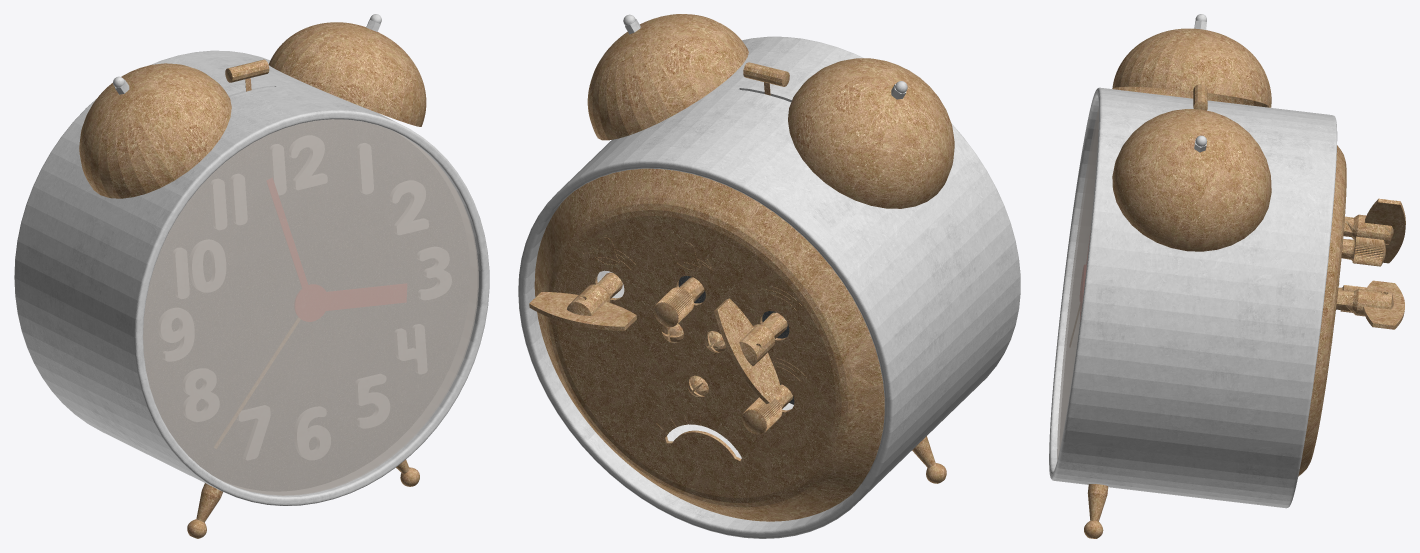
The model's file is Clock Twin Bell N260119.obj.
3 renders of one model, left to right at view 1: azimuth 30°, elevation 25°; view 2: azimuth 150°, elevation 25°; view 3: azimuth 270°, elevation 25°, orthographic. The views are drawn at different scales.
Visible parts, largest first — view 1: Cylinder243, Cylinder244, Tube014, Line123123144, Text002, Line123123136, Cylinder247, Line123123138, Cylinder246, OilTank001; view 2: mechan_766, Tube014, Line123123144, Line123123136, mechan_727, mechan_732, mechan_751, mechan_740, OilTank001, Line123123138; view 3: Tube014, Line123123136, Line123123144, mechan_766, Cylinder243, mechan_732, mechan_727, mechan_751, Line123123139.
Part boxes in pixels (x1,y1,x2,y2): Cylinder243: (143,119,478,495); Cylinder244: (143,120,469,490); Tube014: (14,50,489,505); Line123123144: (79,63,231,198); Text002: (158,136,451,459); Line123123136: (268,22,426,126); Cylinder247: (295,284,406,321); Line123123138: (187,483,222,538); Cylinder246: (267,178,307,287); OilTank001: (225,59,269,82); mechan_766: (534,168,884,521); Tube014: (518,36,1020,538); Line123123144: (788,58,954,208); Line123123136: (587,14,748,140); mechan_727: (714,298,787,403); mechan_732: (529,272,636,330); mechan_751: (654,277,704,327); mechan_740: (742,384,792,434); OilTank001: (743,62,789,86); Line123123138: (912,436,946,483); Tube014: (1049,87,1337,508); Line123123136: (1112,109,1271,251); Line123123144: (1112,28,1271,107); mechan_766: (1298,145,1346,476); Cylinder243: (1057,107,1098,459); mechan_732: (1336,280,1404,329); mechan_727: (1343,198,1405,263); mechan_751: (1341,236,1385,266); Line123123139: (1084,484,1108,538).
Bounding box in the file's own units: 220 × 254 × 198.
